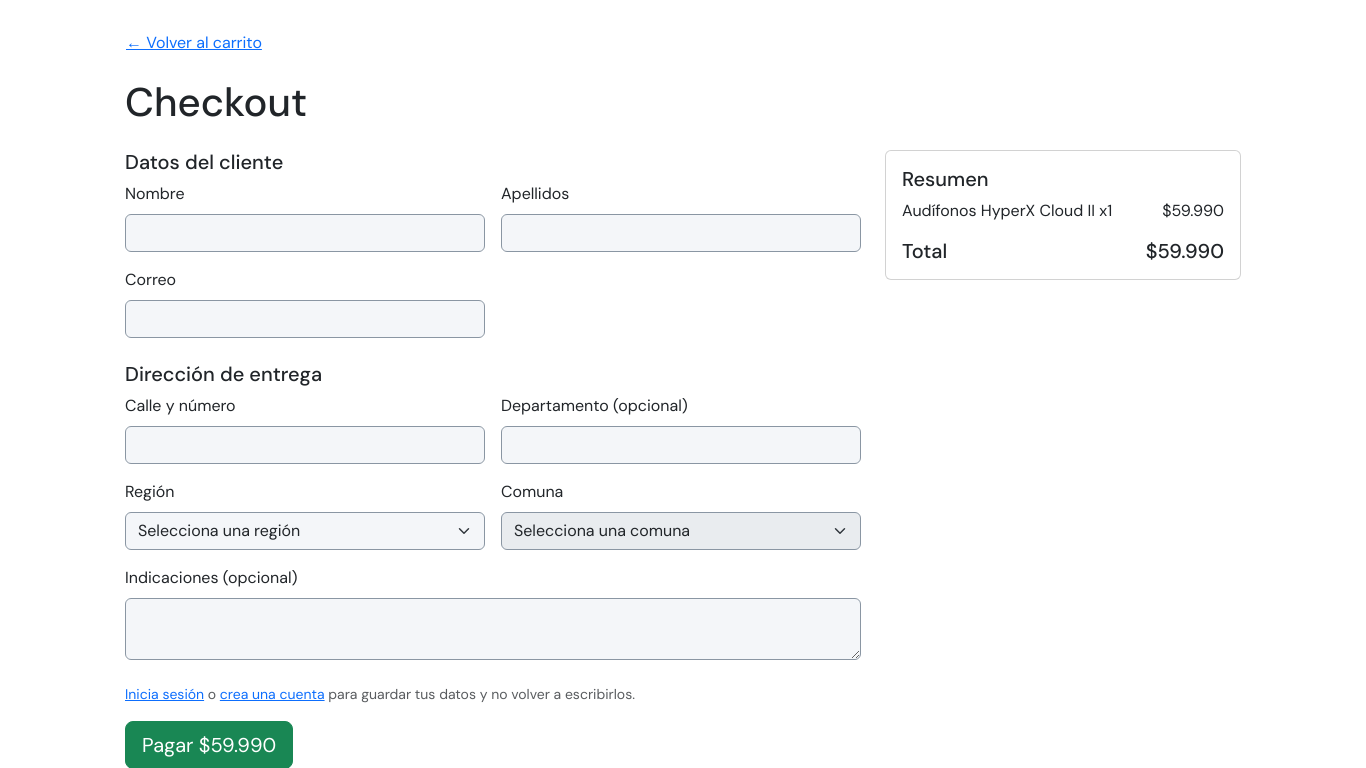
Test: Checkout › muestra errores si se paga con el formulario vacío
Click the button "Pagar $59.990": coordinates (209, 745) 125,721 -> 293,767
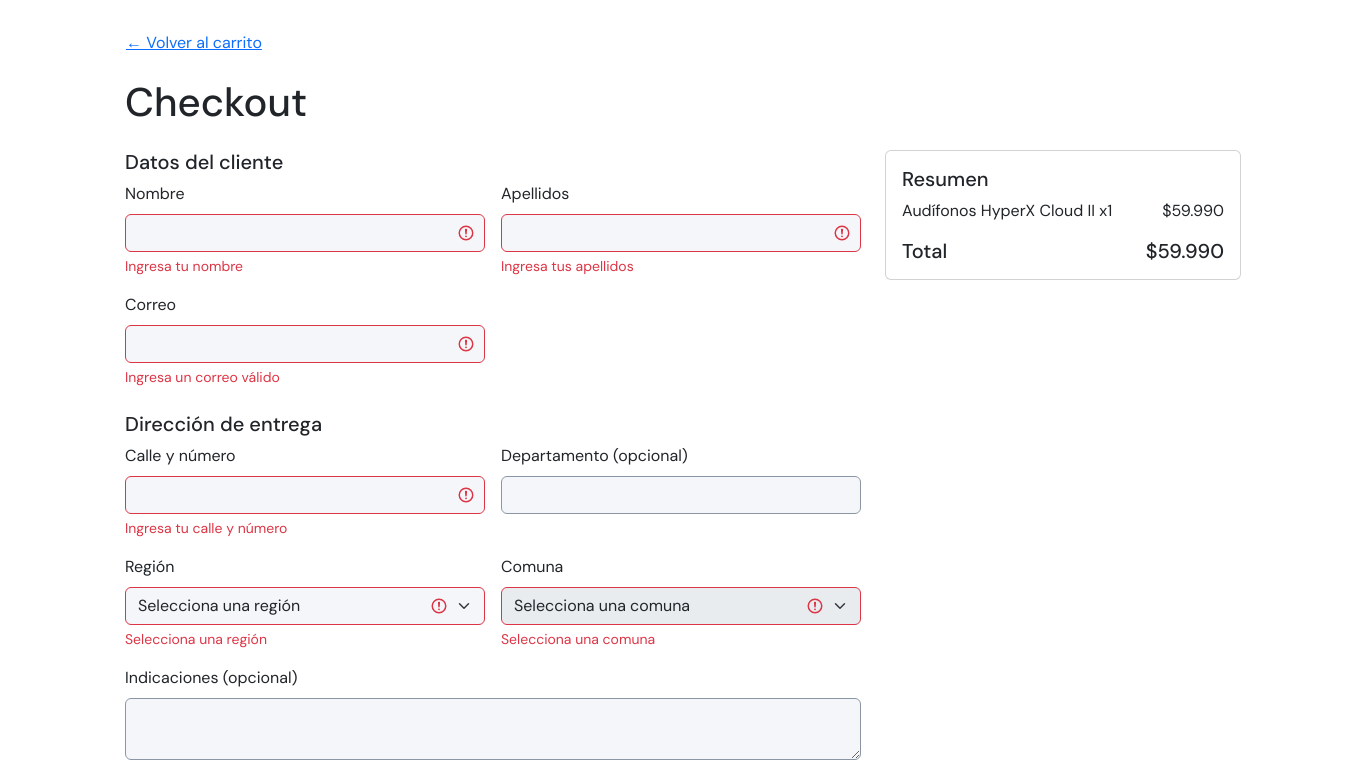
Now the text "Ingresa tu nombre" is shown, box 125,257 -> 243,275
Now the text "Selecciona una región" is shown 2 times
